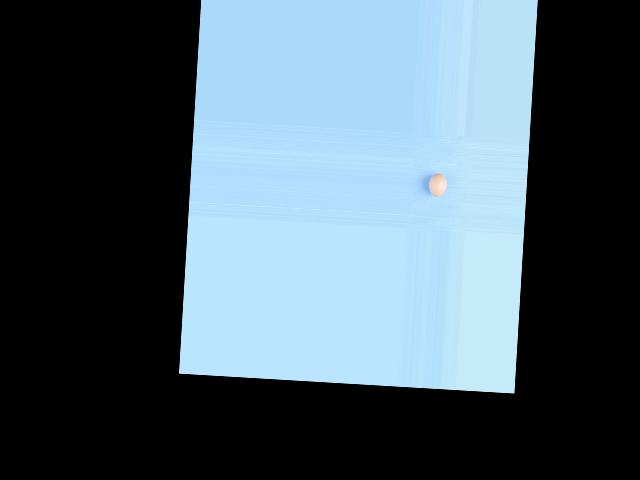egg: (427, 173, 447, 197)
